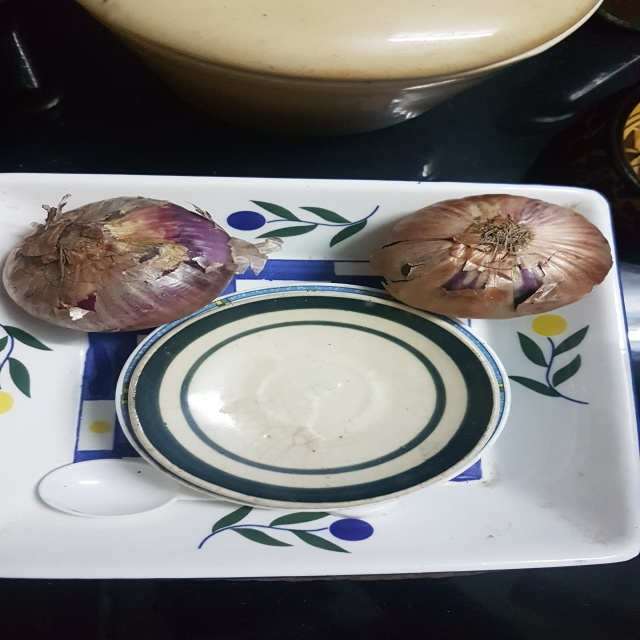onion: (2, 182, 271, 348), (363, 177, 627, 337)
